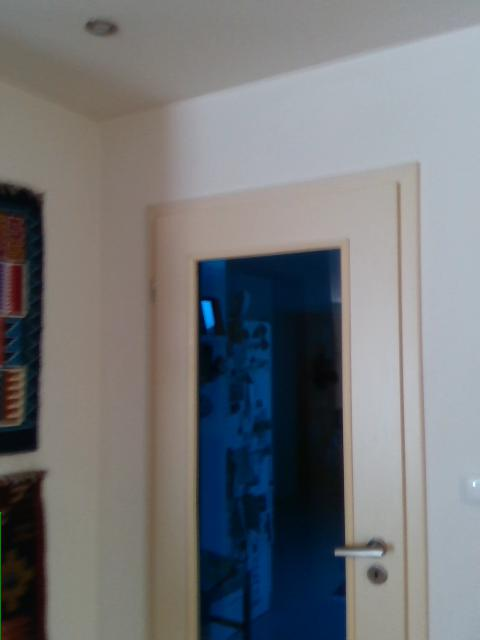door: (147, 180, 407, 639)
